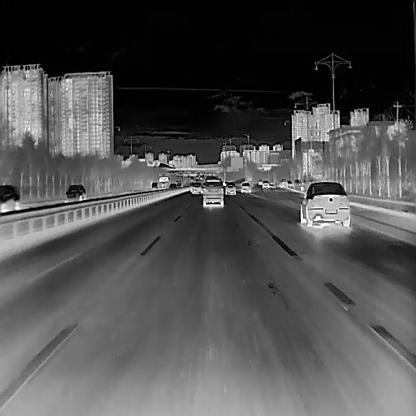car: (298, 180, 349, 225), (202, 177, 222, 208), (0, 184, 20, 211), (65, 184, 85, 199), (157, 176, 169, 190), (190, 182, 203, 193), (225, 182, 236, 194), (240, 182, 250, 192), (261, 180, 269, 188)
